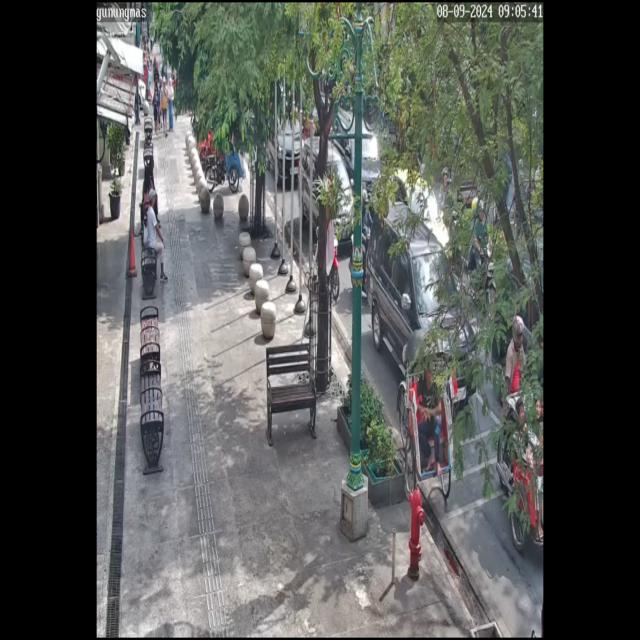Car: (360, 189, 480, 425), (323, 95, 397, 197), (297, 133, 353, 254), (258, 92, 305, 192)
